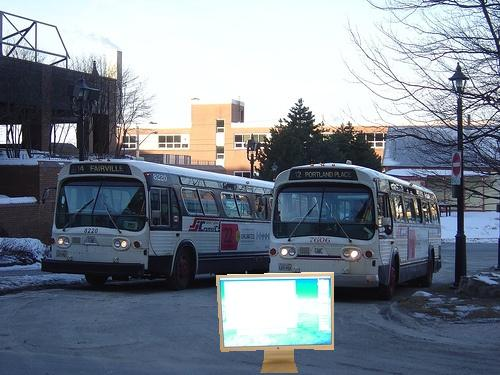tampered: (217, 273, 334, 373)
